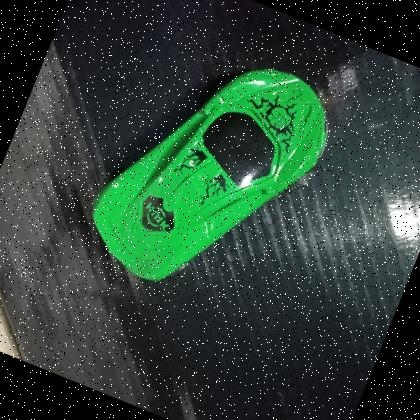Car: (66, 14, 356, 333)
